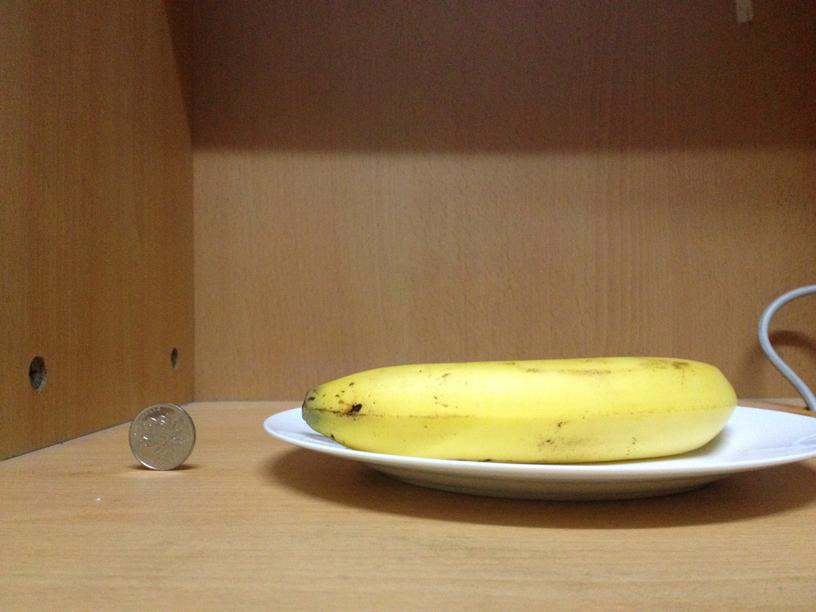banana: (307, 352, 736, 460)
coin: (128, 401, 195, 470)
